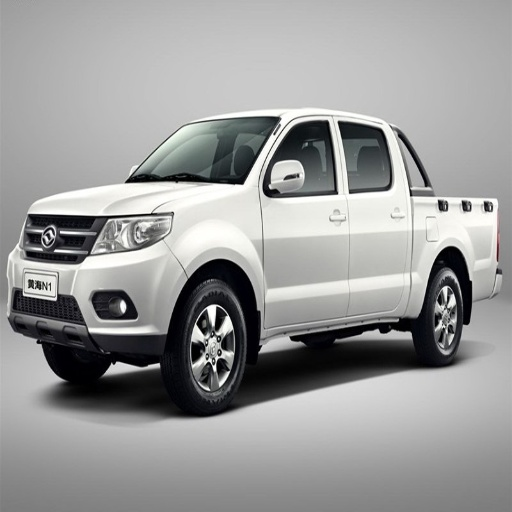back_glass: (334, 117, 411, 311)
back_right_light: (2, 216, 186, 354)
front_bumper: (126, 118, 277, 183)
front_glass: (261, 117, 348, 322)
front_left_door: (93, 211, 173, 255)
front_right_light: (30, 184, 235, 216)
tailgate: (407, 190, 499, 309)
trunk: (163, 279, 250, 413), (416, 266, 466, 365), (47, 347, 103, 383)
